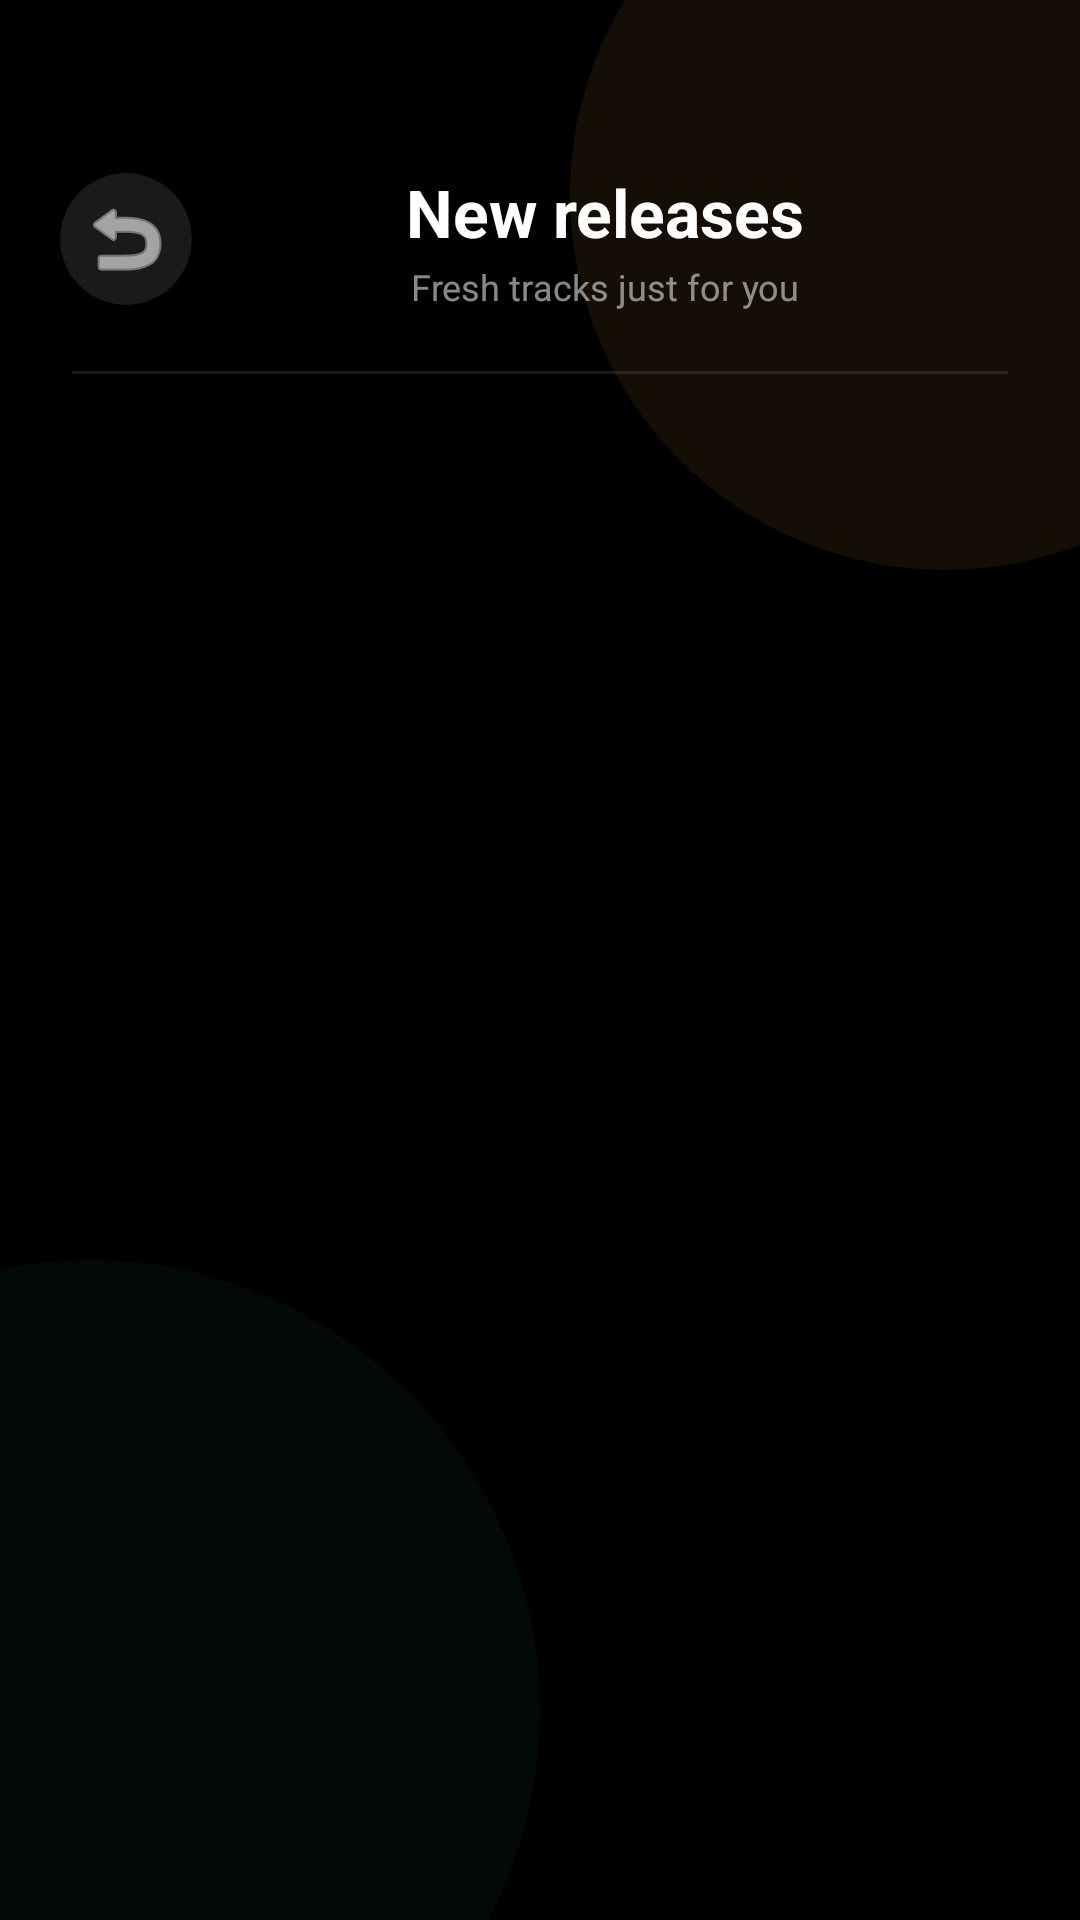

Screen size 1080*1920. Icon name, then its box in pixels as (x1, y1, x2, y2):
revert: (61, 173, 191, 305)
